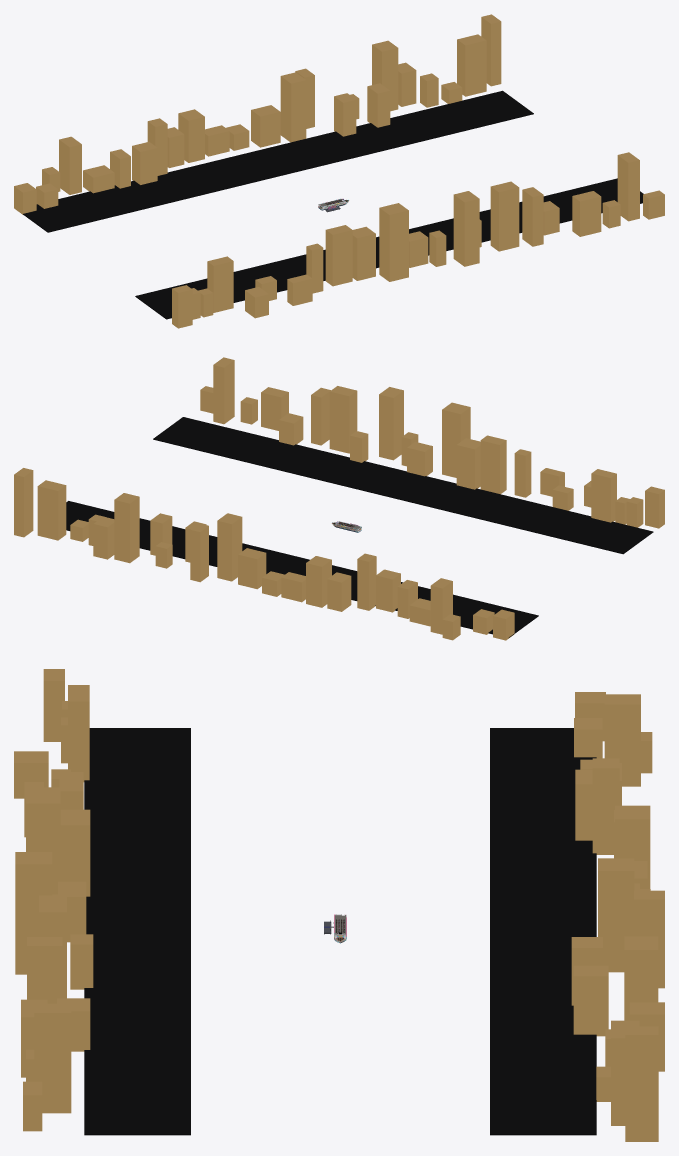
Rendered from boat.glb.
3 views of the same model, one above another, from view 1: azimuth 30°, elevation 25°; view 2: azimuth 150°, elevation 25°; view 3: azimuth 270°, elevation 25° (orthographic). The views are drawn at different scales.
Visible parts, largest first — view 1: Skyline, Riverbanks; view 2: Skyline, Riverbanks; view 3: Riverbanks, Skyline.
Boxes of the visible parts, box(x1,y1,x2,y2) form: Skyline: box(14, 14, 664, 328); Riverbanks: box(23, 90, 643, 319); Skyline: box(14, 357, 664, 640); Riverbanks: box(66, 417, 653, 637); Riverbanks: box(84, 728, 596, 1135); Skyline: box(14, 669, 664, 1141).
Size of the model in its own units: 913 by 120 by 610.
70 materials, 1 textured.
